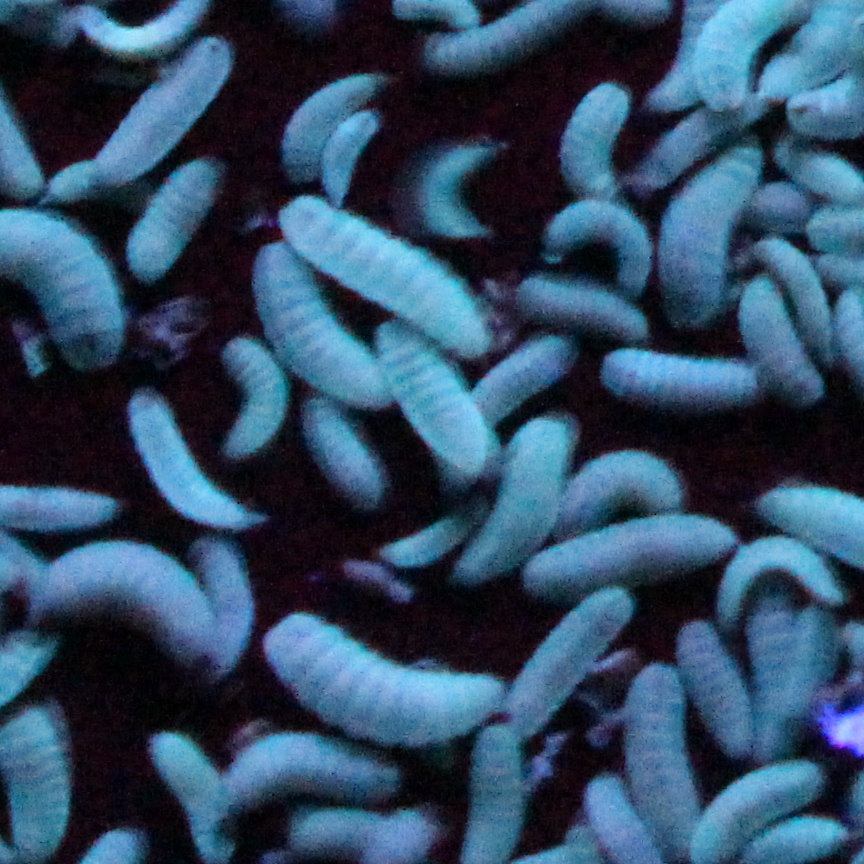larve: (278, 193, 495, 356), (263, 607, 510, 746), (248, 238, 400, 410), (31, 538, 219, 672), (85, 34, 242, 188), (658, 138, 765, 338), (128, 388, 271, 532), (456, 418, 579, 582), (508, 584, 633, 740), (521, 513, 742, 598), (372, 322, 494, 472), (625, 662, 706, 863), (220, 732, 401, 813), (282, 73, 391, 193), (124, 154, 220, 284), (600, 345, 770, 414), (555, 451, 685, 541), (752, 236, 842, 366), (738, 274, 829, 402), (716, 535, 844, 624), (639, 100, 760, 192), (674, 621, 752, 763), (743, 586, 802, 768), (540, 198, 654, 291), (296, 398, 390, 507), (215, 333, 290, 462), (463, 337, 574, 424), (183, 542, 256, 673), (561, 75, 631, 208), (412, 142, 501, 242), (379, 496, 489, 572), (514, 278, 651, 333), (314, 108, 381, 208), (782, 605, 838, 722), (45, 145, 110, 205)
